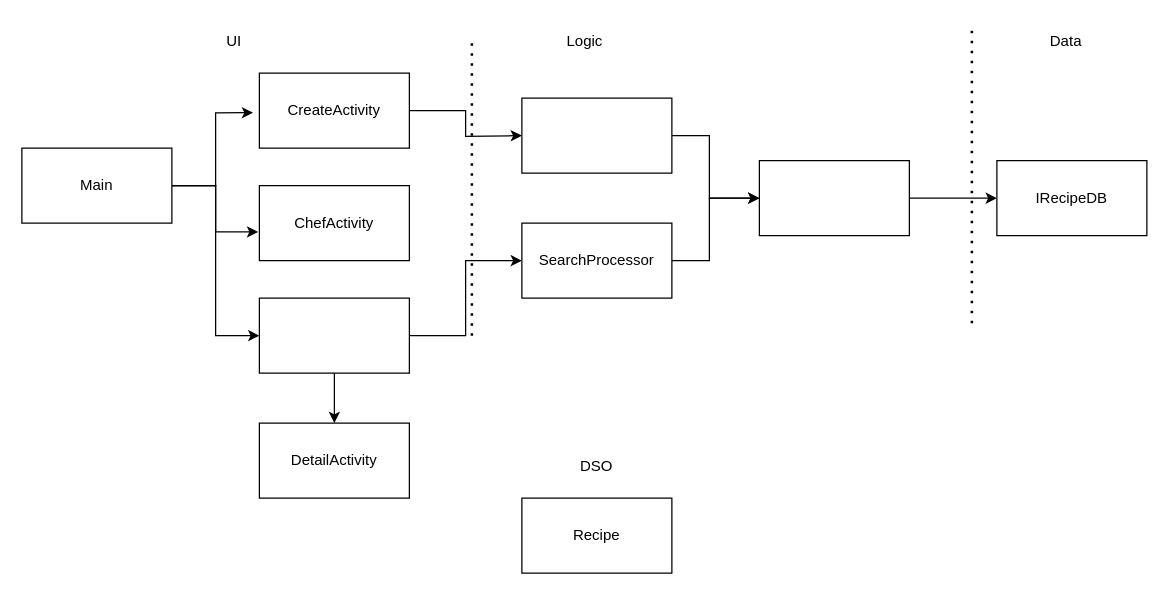
This 1169x595 diagram has some shape labels left out. The shapes that lost their labels are listed below. From the top down, each one's centre as x and y in pixels, then its label:
the point at 596,135: RecipeProcessor
the point at 833,197: Services
the point at 333,335: SearchActivity
